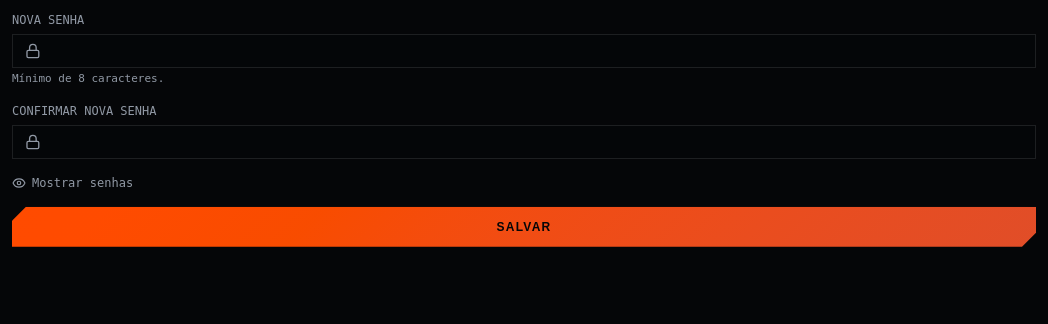
Test case: PasswordForm › não envia senha inválida e mostra o motivo
Type "curta" into the password field labelled "NOVA SENHA" at {"x": 532, "y": 51}, box x1=41 y1=35 x2=1023 y2=67
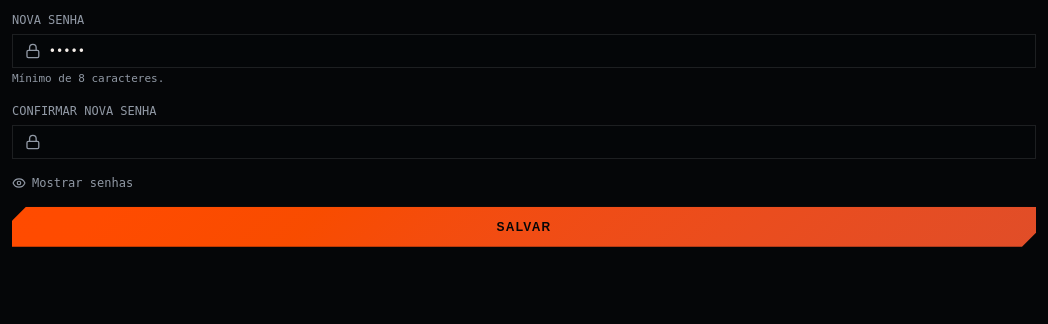
Type "curta" into the password field labelled "CONFIRMAR NOVA SENHA" at {"x": 532, "y": 142}, box x1=41 y1=126 x2=1023 y2=158
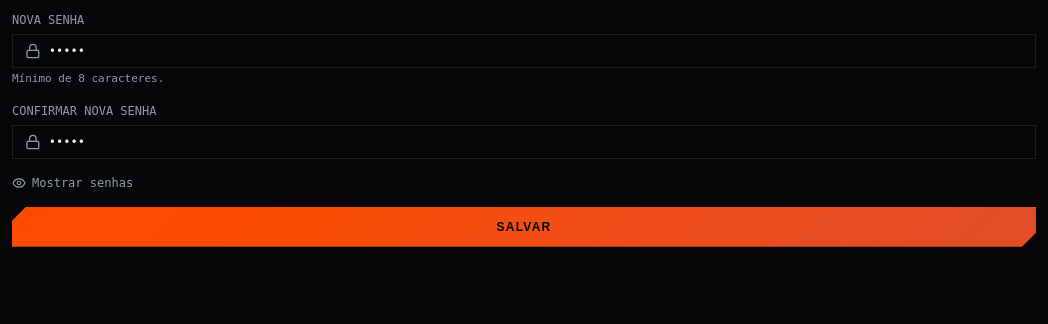
Click the button "Salvar" at {"x": 524, "y": 227}, box x1=12 y1=207 x2=1036 y2=247
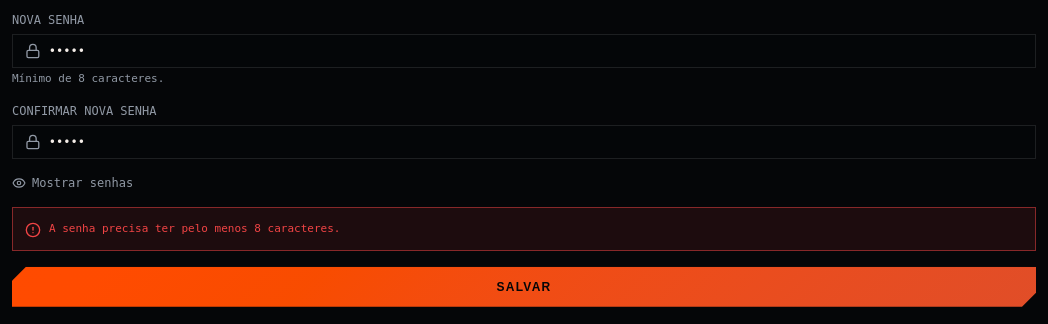
Expected: the message shows "pelo menos 8", x1=49 y1=222 x2=340 y2=235
